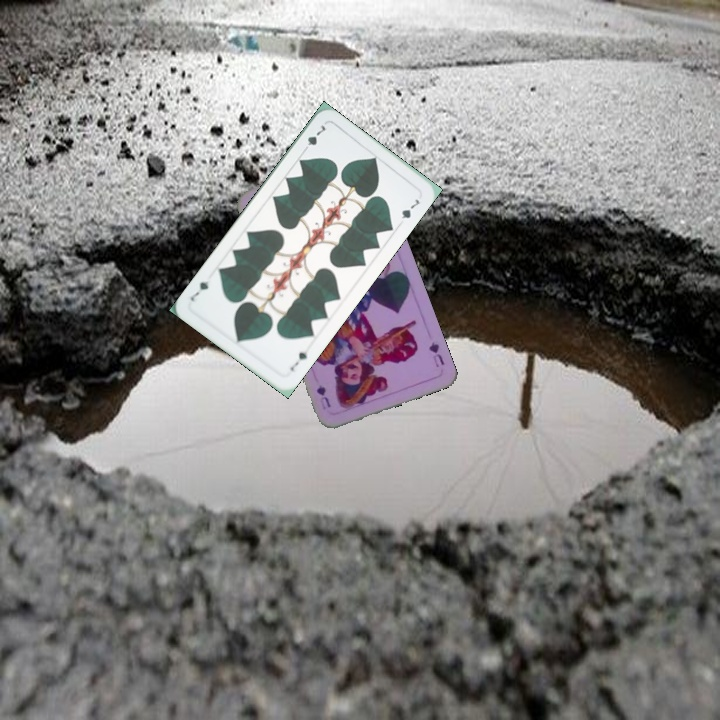G7: (298, 121, 328, 155), (286, 347, 309, 374)
GU: (424, 338, 447, 370)
